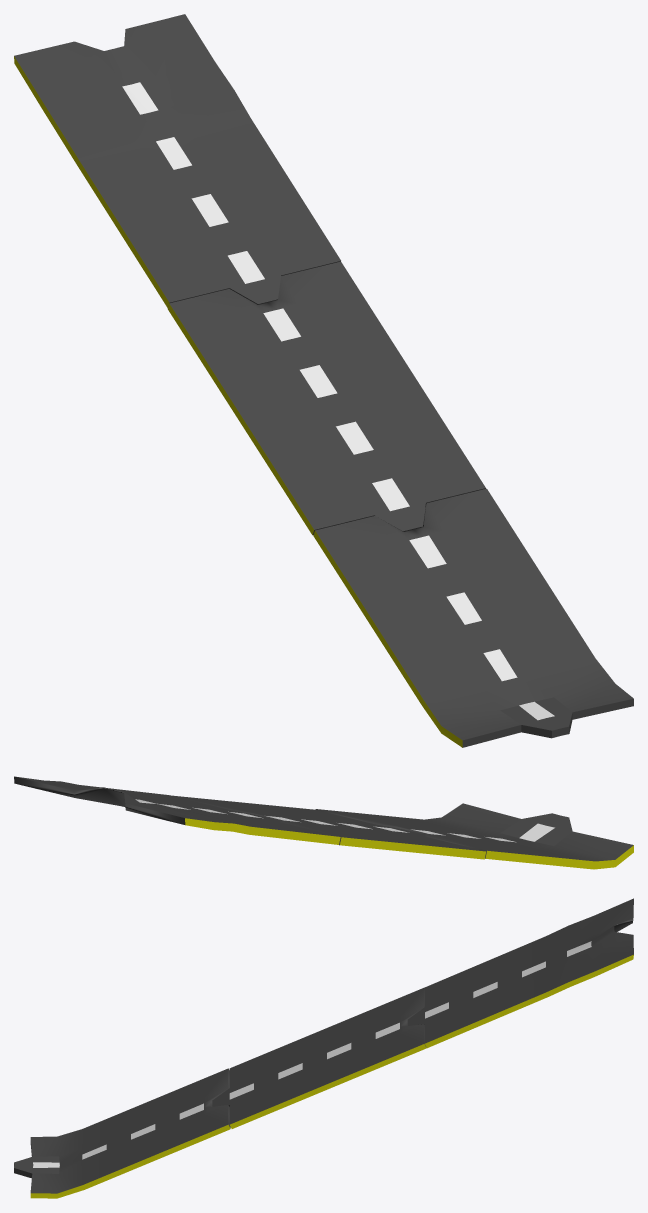
The model's file is Small Downward slope.fbx.
3 views of the same model, one above another, from view 1: azimuth 30°, elevation 25°; view 2: azimuth 150°, elevation 25°; view 3: azimuth 270°, elevation 25° (orthographic). The views are drawn at different scales.
Visible parts, largest first — view 1: straight_piece29, straight_piece28, straight_piece27; view 2: straight_piece27, straight_piece29, straight_piece28; view 3: straight_piece29, straight_piece27, straight_piece28.
Part boxes in pixels (x1,y1,x2,y2): straight_piece29: [14, 14, 340, 307]; straight_piece28: [167, 261, 485, 535]; straight_piece27: [313, 488, 633, 747]; straight_piece27: [315, 803, 633, 869]; straight_piece29: [14, 776, 340, 844]; straight_piece28: [172, 795, 486, 859]; straight_piece29: [407, 898, 633, 1048]; straight_piece27: [14, 1068, 230, 1198]; straight_piece28: [212, 987, 426, 1128].
Size of the model in its own units: 8.64 by 17.23 by 39.67.
